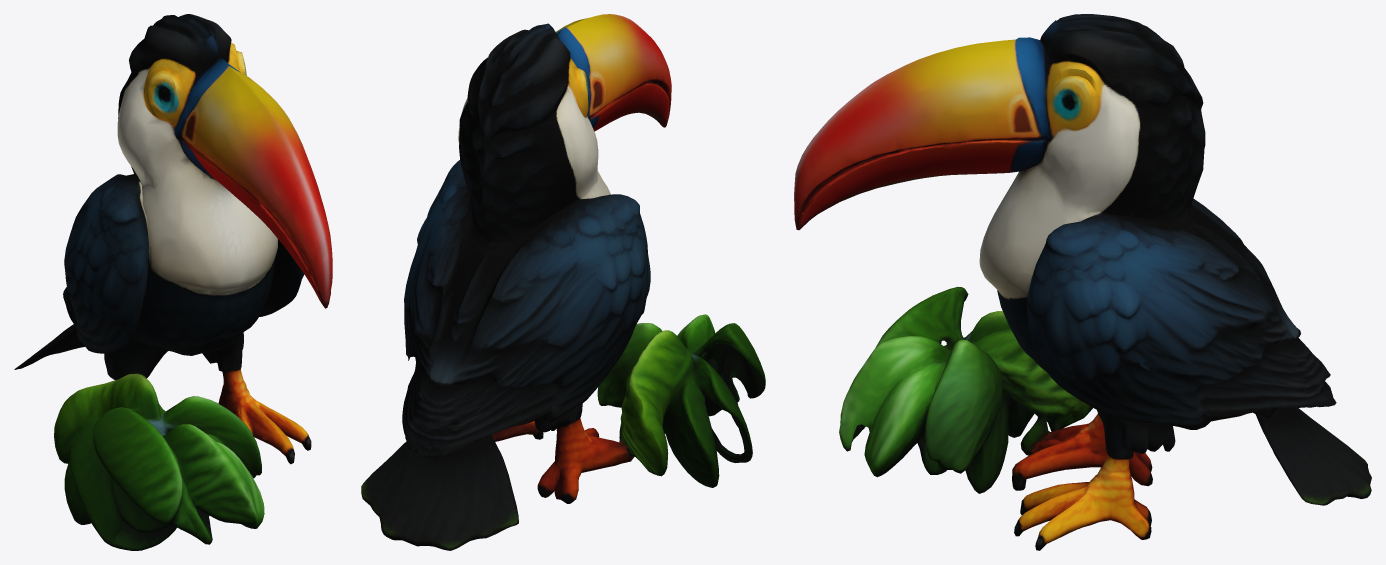
File: tucan.glb
The picture shows the model from 3 angles, left to right: view 1: azimuth 30°, elevation 25°; view 2: azimuth 150°, elevation 25°; view 3: azimuth 270°, elevation 25°; orthographic projection. The views are drawn at different scales.
Parts seen in each view (by area): view 1: world_0; view 2: world_0; view 3: world_0.
Boxes of the visible parts, box(x1,y1,x2,y2) form: world_0: box(14, 14, 332, 550); world_0: box(361, 14, 765, 550); world_0: box(794, 14, 1371, 550).
Bounding box in the file's own units: 0.6111 × 0.9578 × 1.
1 material, 1 textured.
